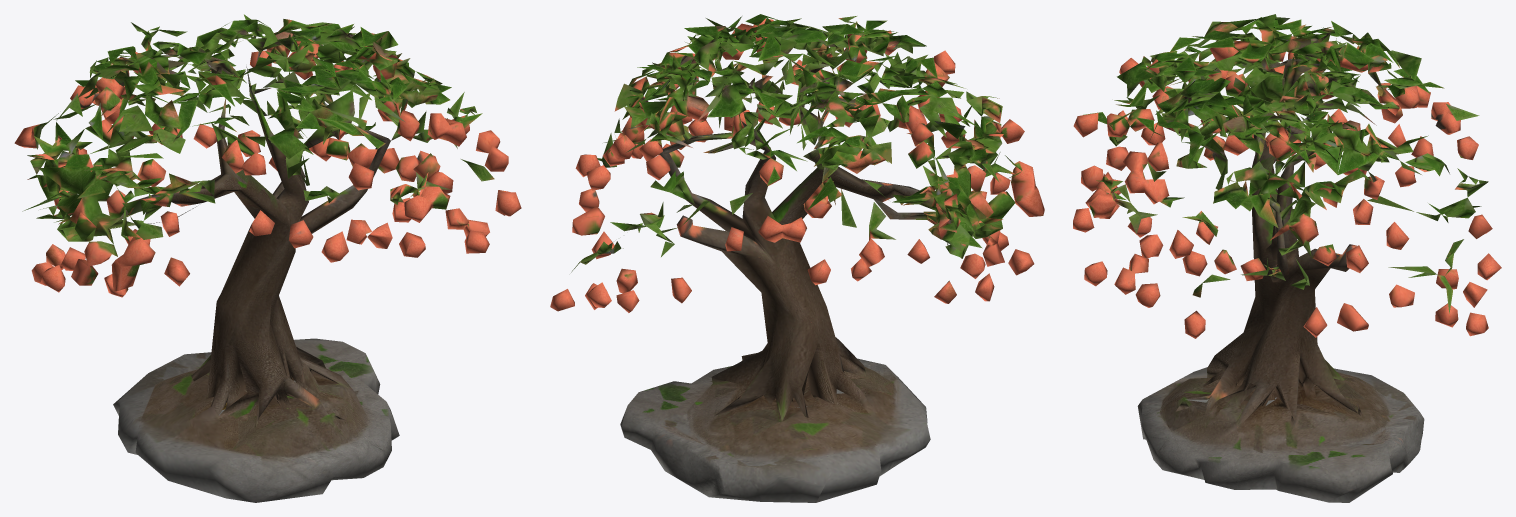
File: cay-sala-hoa.glb
3 views of the same model, side by side, from view 1: azimuth 30°, elevation 25°; view 2: azimuth 150°, elevation 25°; view 3: azimuth 270°, elevation 25° (orthographic). The views are drawn at different scales.
Size of the model in its own units: 1.89 by 1.67 by 1.66.
Materials: 1 (1 with a texture image).
